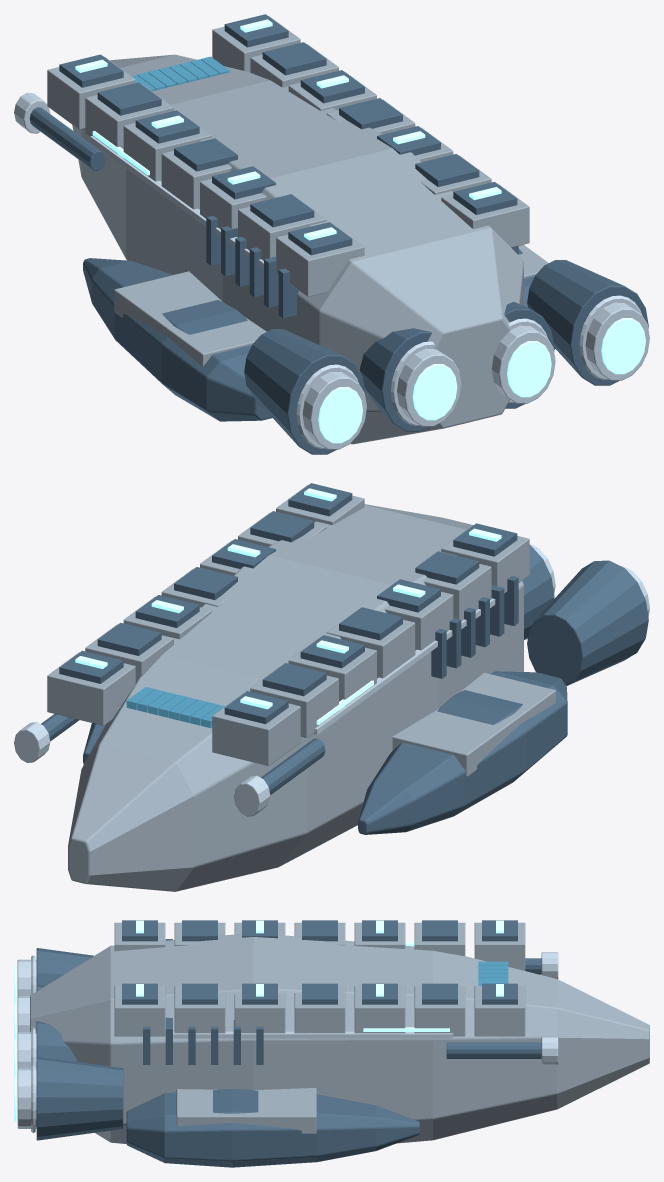
File: cruiser_horizon.glb
3 views of the same model, one above another, from view 1: azimuth 30°, elevation 25°; view 2: azimuth 150°, elevation 25°; view 3: azimuth 270°, elevation 25° (orthographic). The views are drawn at different scales.
Visible parts, largest first — view 1: council_hull.002, council_dark.002, council_trim.002, council_glow.002, council_glass.002; view 2: council_hull.002, council_dark.002, council_trim.002, council_glow.002, council_glass.002; view 3: council_hull.002, council_dark.002, council_trim.002, council_glow.002, council_glass.002.
Part boxes in pixels (x1,y1,x2,y2): council_hull.002: (47,16,548,444); council_dark.002: (29,14,648,454); council_trim.002: (14,92,649,449); council_glow.002: (75,19,645,443); council_glass.002: (131,56,229,91); council_hull.002: (47,485,555,891); council_dark.002: (41,483,648,834); council_trim.002: (14,544,649,816); council_glow.002: (75,488,501,724); council_glass.002: (126,687,225,728); council_hull.002: (30,922,649,1143); council_dark.002: (36,920,541,1167); council_trim.002: (17,952,558,1133); council_glow.002: (14,920,503,1121); council_glass.002: (478,961,508,985).
Bounding box in the file's own units: 60 × 34 × 115.
